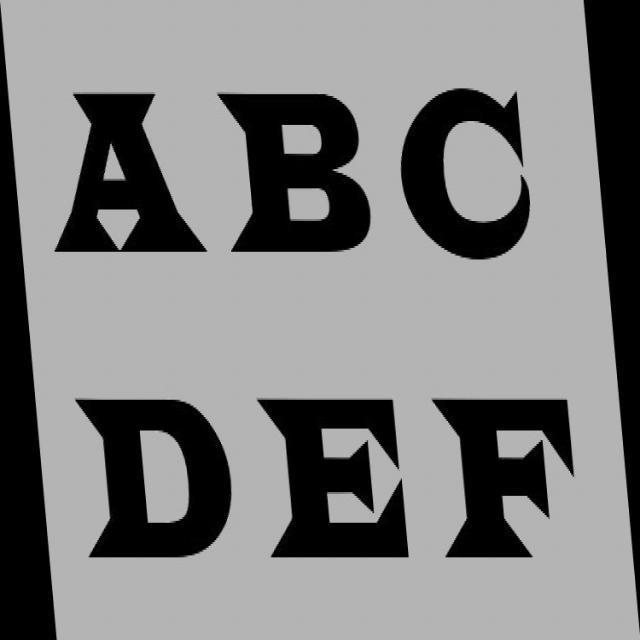A: (45, 81, 211, 266)
B: (217, 81, 379, 266)
C: (397, 85, 540, 266)
D: (65, 390, 235, 571)
E: (252, 387, 418, 571)
F: (435, 387, 584, 570)
